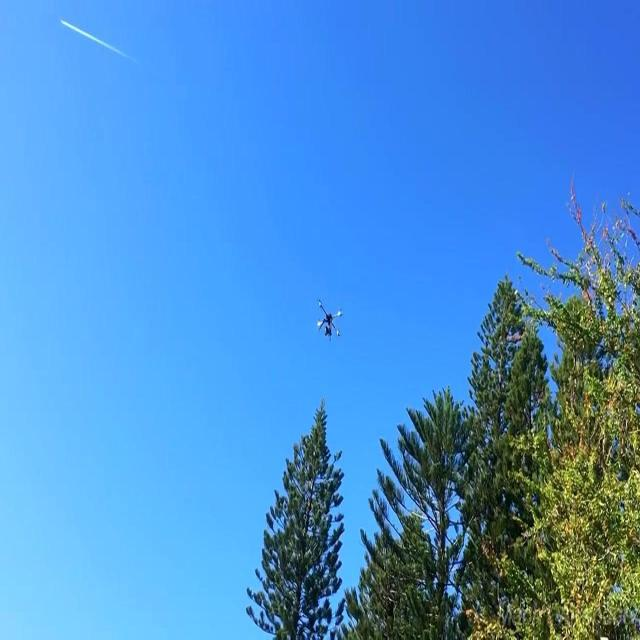drone: (316, 296, 343, 344)
